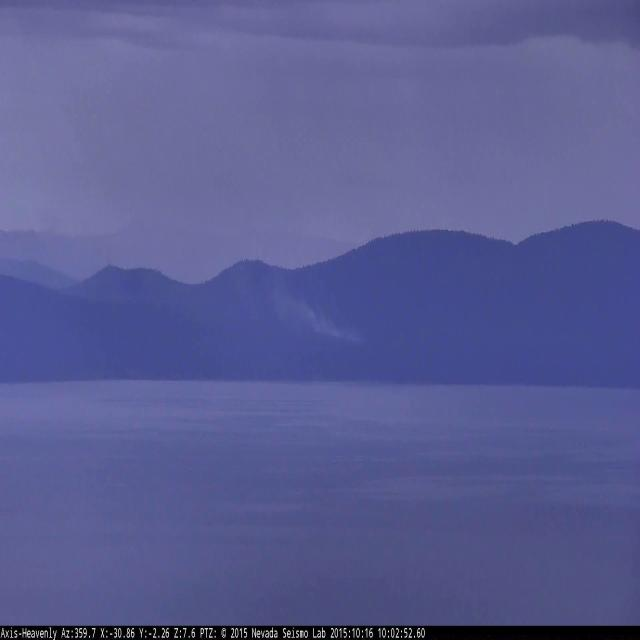smoke: (261, 256, 364, 350)
